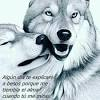Lobo: (27, 2, 94, 70), (1, 20, 50, 79)
